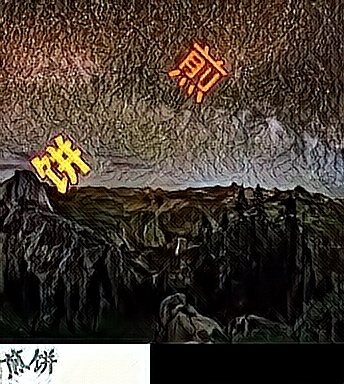B1FD: (28, 131, 93, 197)
BCE5: (163, 40, 228, 106)
